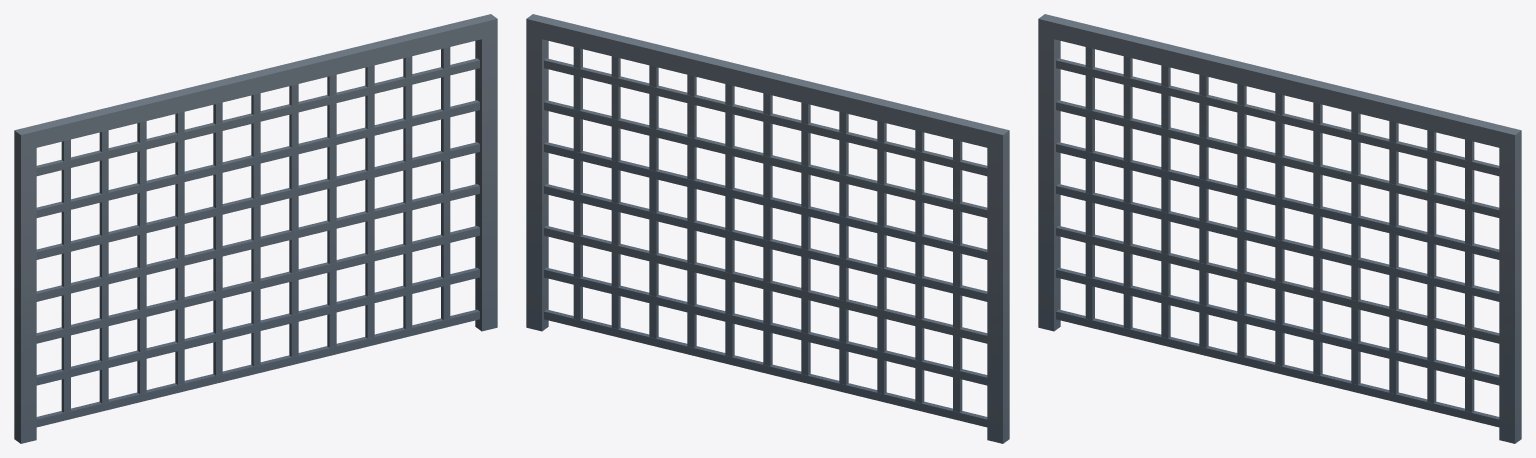
Rendered from Fence_1_A_3.fbx.
3 renders of one model, left to right at view 1: azimuth 30°, elevation 25°; view 2: azimuth 150°, elevation 25°; view 3: azimuth 330°, elevation 25°, orthographic.
Parts seen in each view (by area): view 1: Fence_1_A_3; view 2: Fence_1_A_3; view 3: Fence_1_A_3.
Part boxes in pixels (x1,y1,x2,y2): Fence_1_A_3: [14, 14, 497, 443]; Fence_1_A_3: [526, 14, 1009, 443]; Fence_1_A_3: [1038, 14, 1521, 443].
Size of the model in its own units: 400 by 248 by 9.6.
